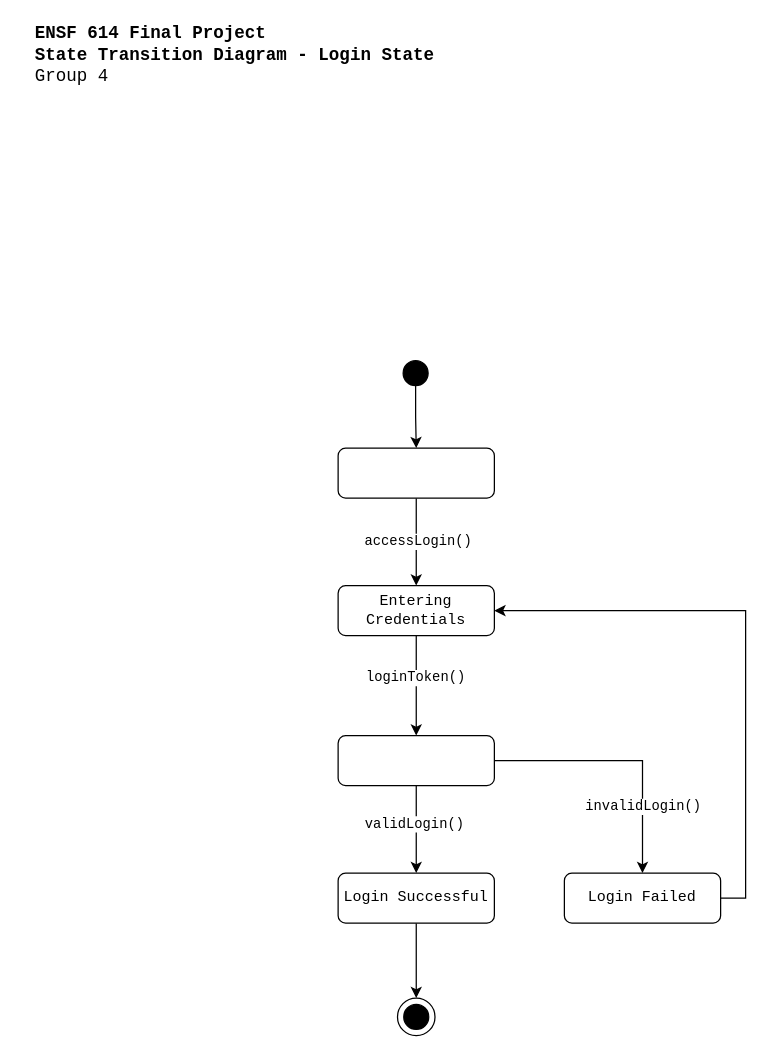
This 778x1058 diagram has some shape labels left out. The shapes that lost their labels are listed below. From the top down, each one's centre as x and y in pixels, then its label:
pixel 415 472: Login Button
pixel 415 760: Credentials Submitted
